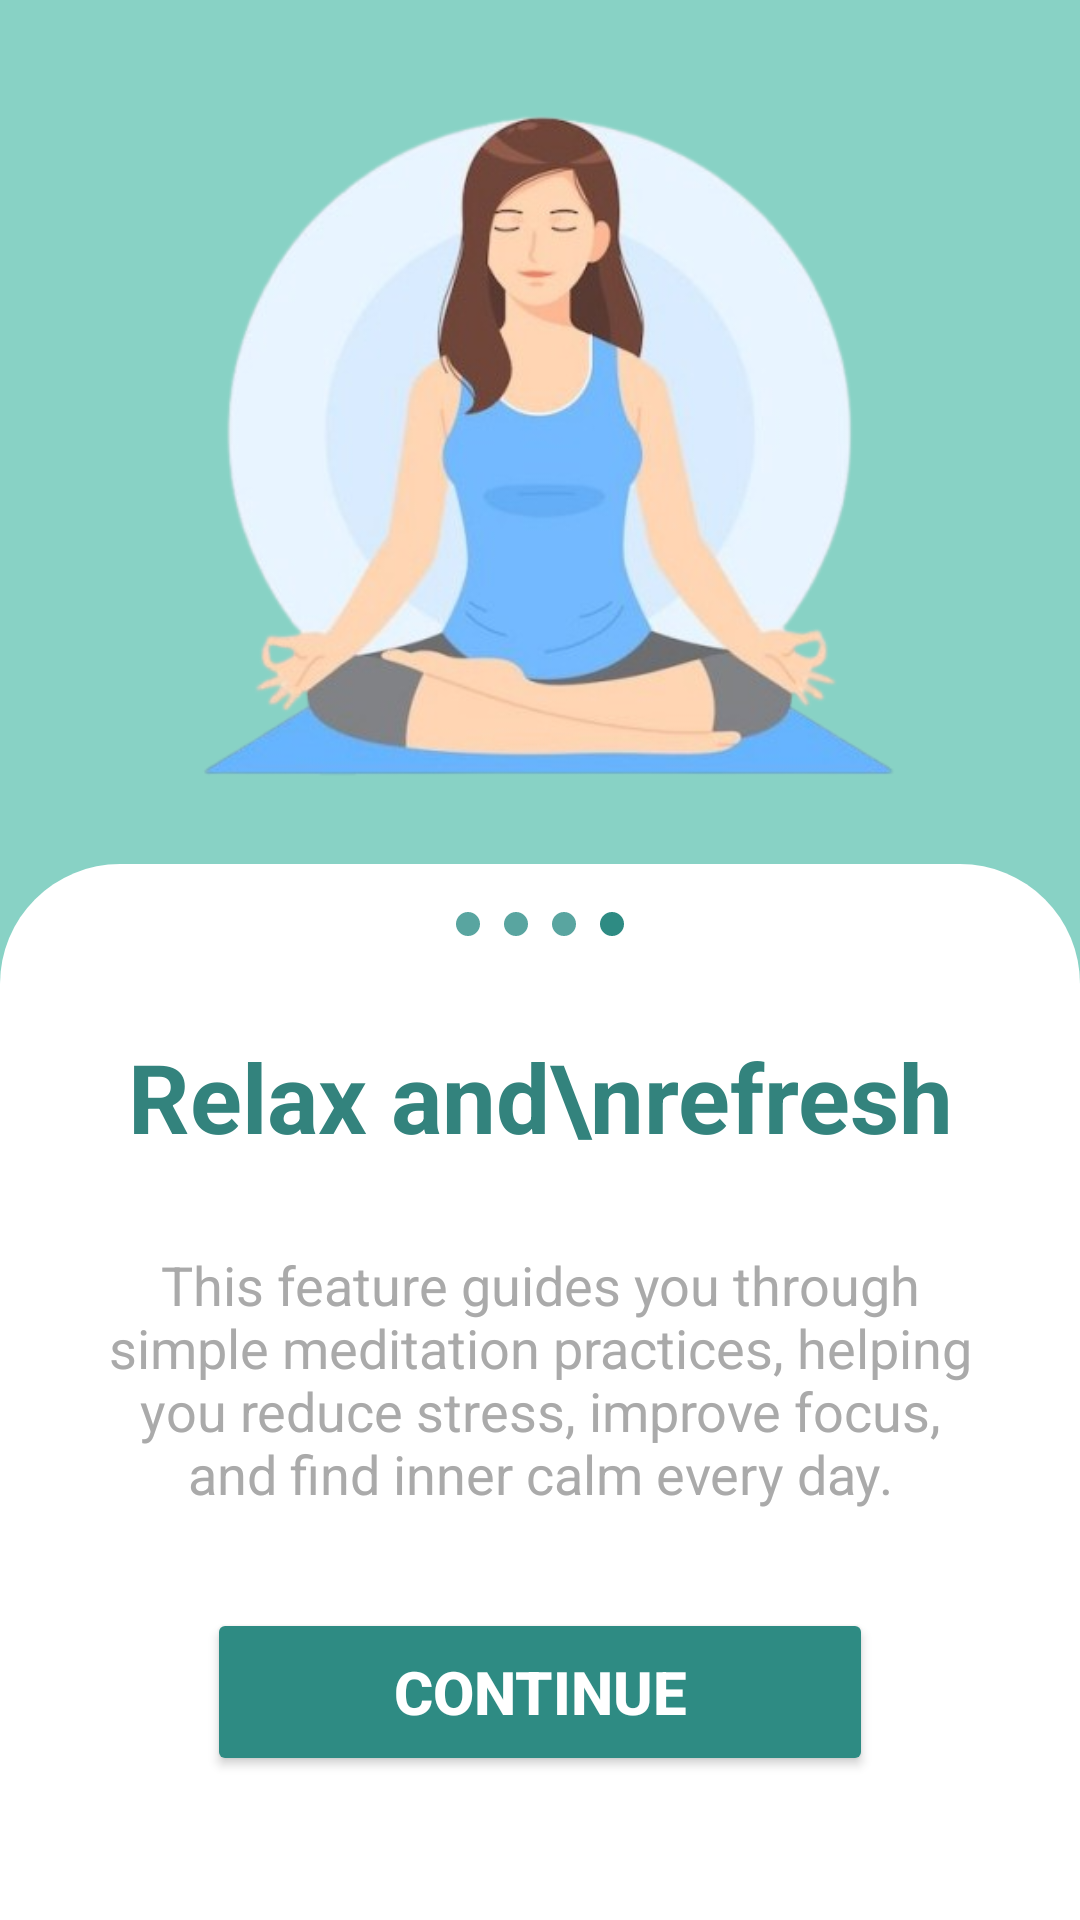

Screen size 1080w x 1920h. Icon name, then its center in pixels as (x=x, y=y):
dot: (x=468, y=924), (x=516, y=924), (x=564, y=924), (x=612, y=924)
